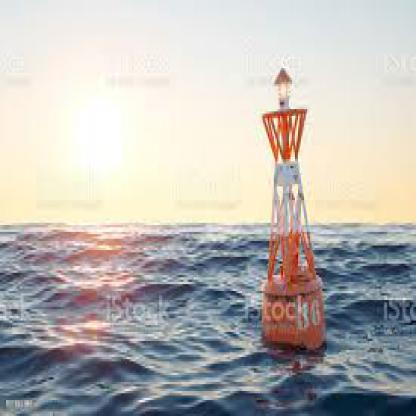buoy: (248, 61, 333, 357)
